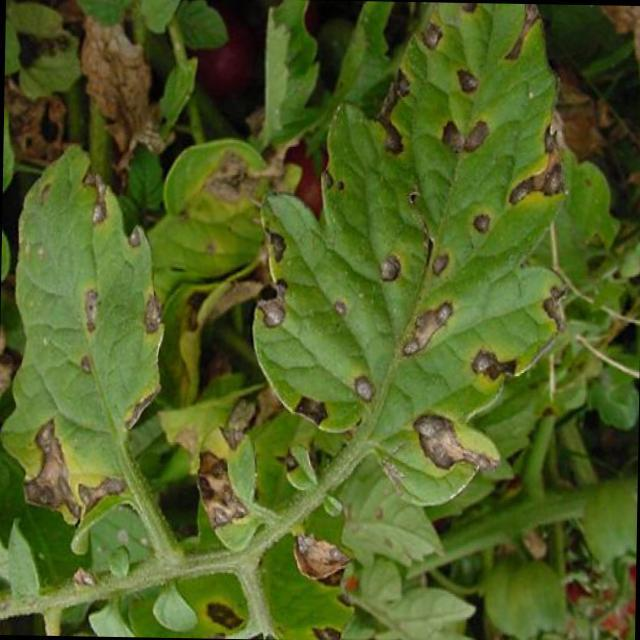Septoria: (264, 4, 574, 468), (44, 174, 165, 408)
